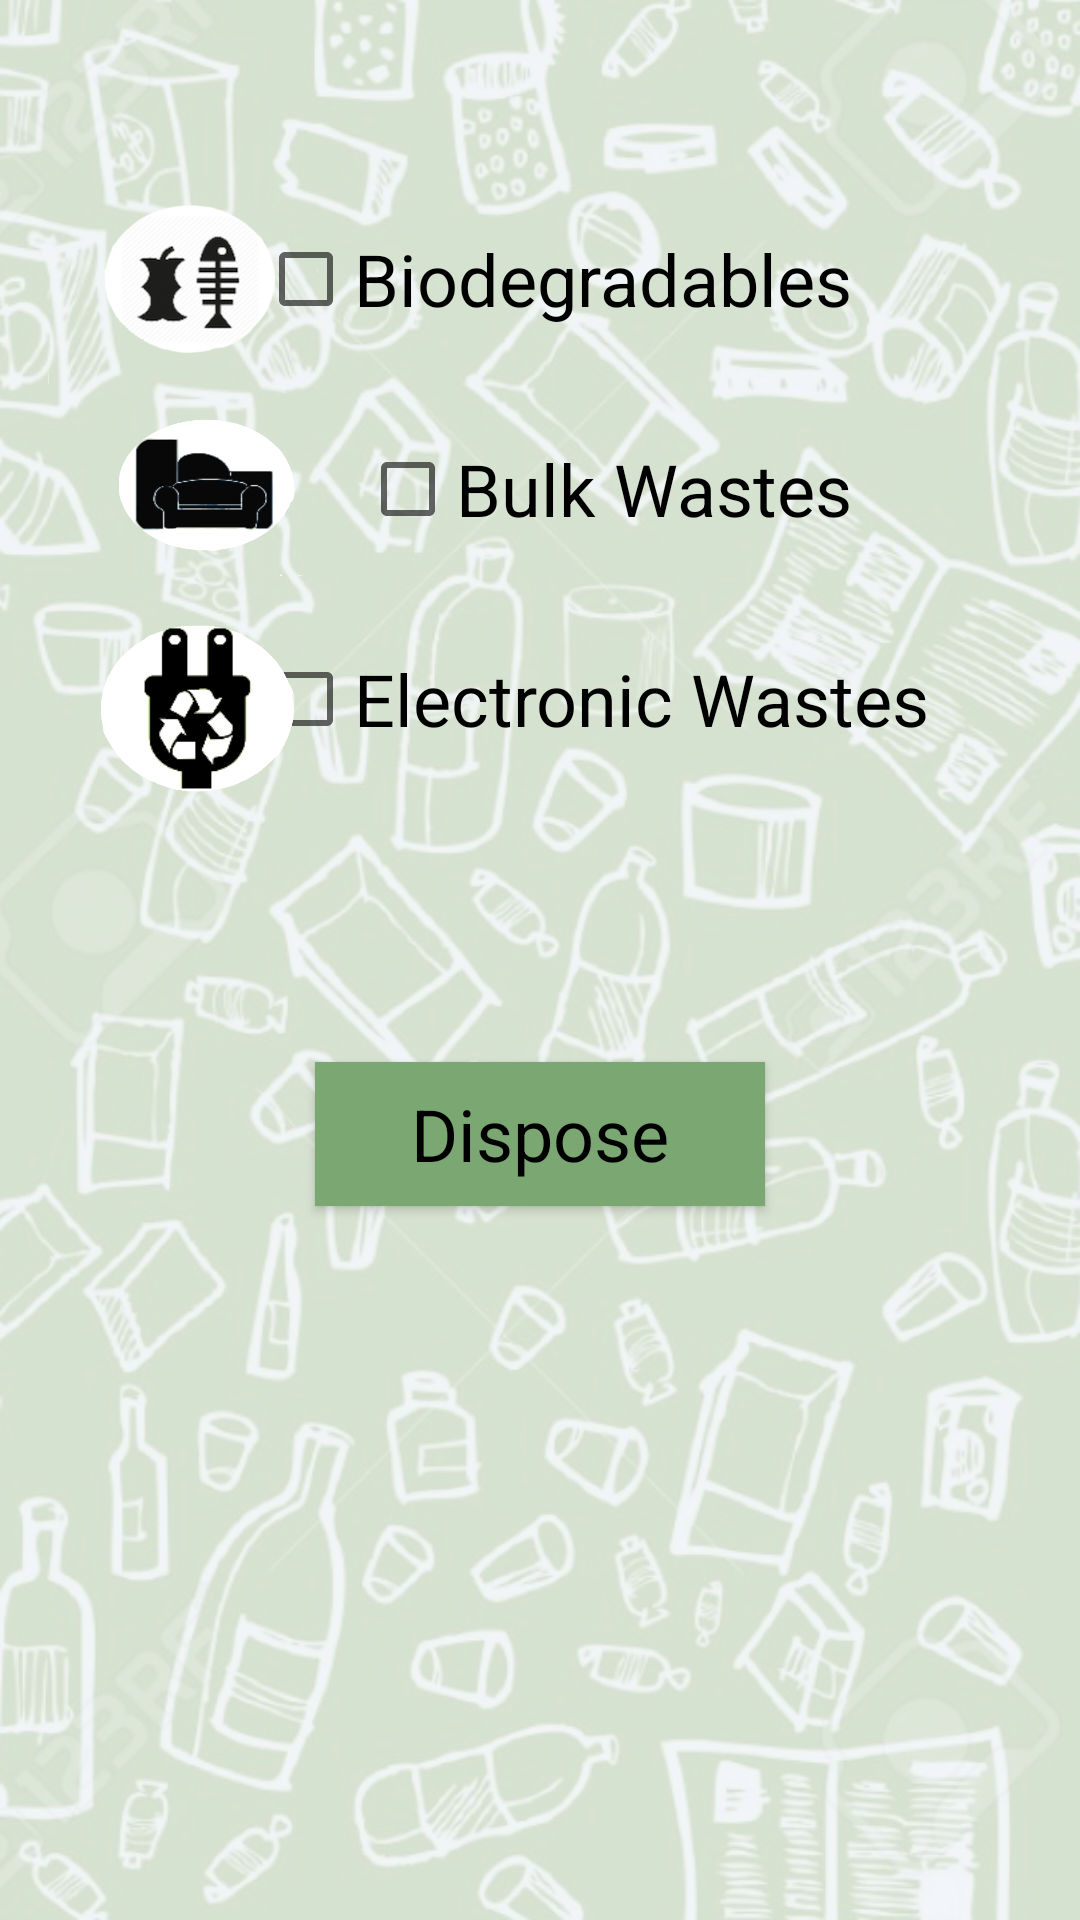

Where to tap for icons on this 1080 x 1920 app screen, as point (x, y):
wayste biodegradable: point (183, 285)
wayste bulkwaste: point (216, 495)
